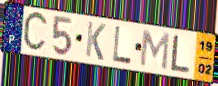5: (50, 14, 75, 57)
C: (21, 10, 50, 55)
K: (84, 20, 107, 63)
L: (169, 34, 192, 74), (111, 25, 133, 66)
M: (138, 28, 171, 72)
